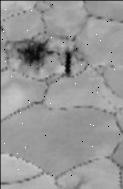good_void: (16, 36, 48, 69), (64, 51, 71, 75), (46, 49, 54, 55), (57, 52, 60, 55)
